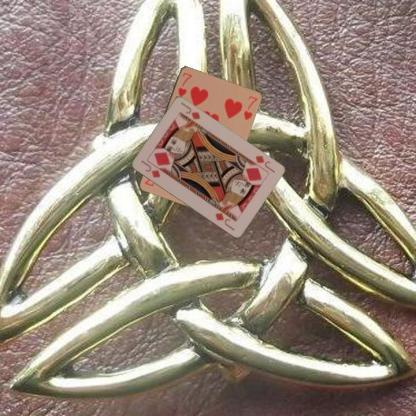7h: (175, 69, 194, 98)
Jd: (137, 157, 162, 180), (252, 152, 276, 174)
